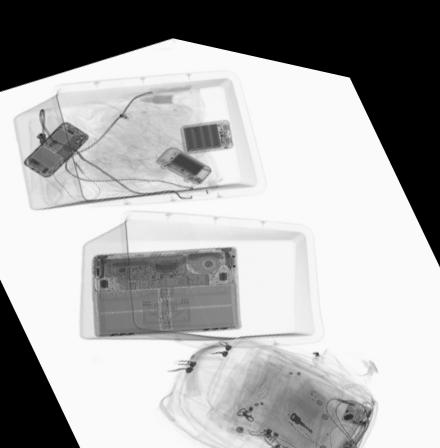Powerbank: (178, 108, 236, 148)
